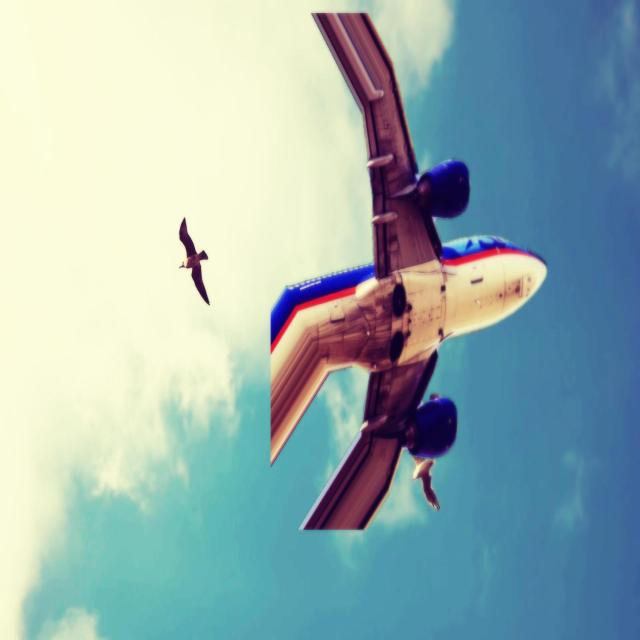airplane: (269, 9, 547, 532)
